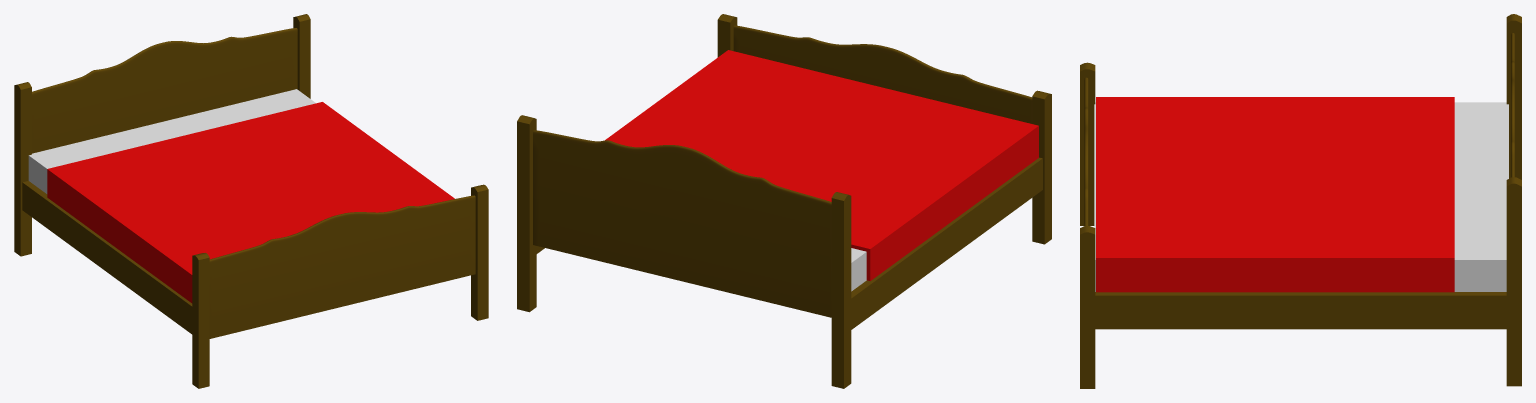
File: CorpsLit.fbx
The picture shows the model from 3 angles, left to right: view 1: azimuth 30°, elevation 25°; view 2: azimuth 150°, elevation 25°; view 3: azimuth 270°, elevation 25°; orthographic projection. The views are drawn at different scales.
Parts seen in each view (by area): view 1: pCube13; view 2: pCube13; view 3: pCube13.
Boxes of the visible parts, <box> form: pCube13: <box>14,14,488,388</box>; pCube13: <box>517,14,1051,388</box>; pCube13: <box>1080,14,1521,388</box>.
Size of the model in its own units: 10.85 by 6.39 by 11.95.
